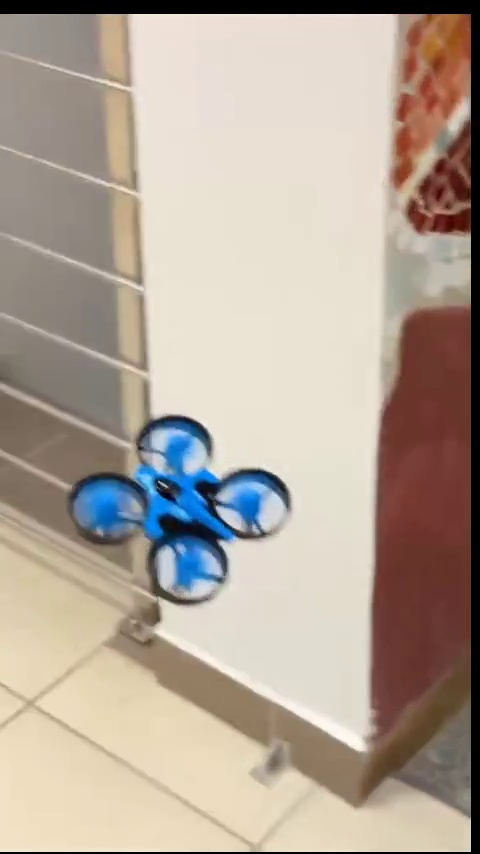drone: (71, 418, 286, 602)
